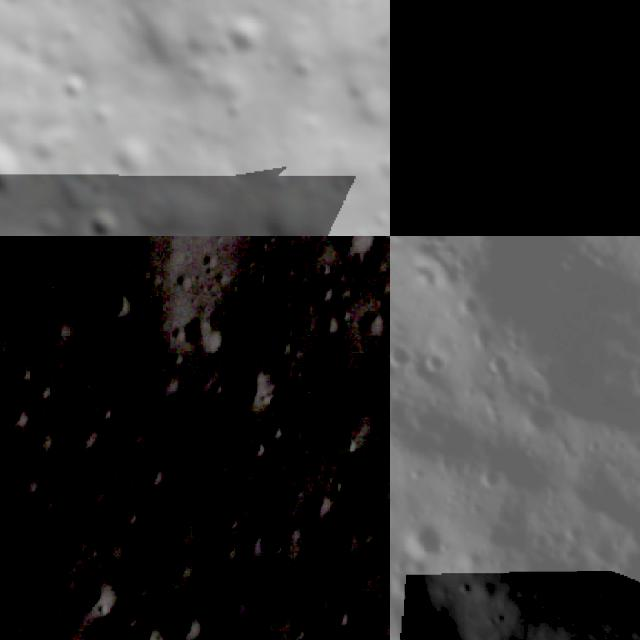crater: (390, 0, 640, 236), (393, 512, 462, 580), (100, 126, 170, 193), (215, 2, 281, 68), (216, 362, 279, 412), (67, 571, 128, 620), (0, 123, 33, 206), (411, 342, 462, 392), (71, 192, 127, 236), (130, 452, 177, 503), (248, 519, 295, 567), (91, 282, 130, 327), (513, 236, 593, 257), (390, 334, 423, 383), (51, 67, 90, 105), (286, 52, 324, 89), (24, 420, 59, 454), (321, 236, 372, 257), (0, 396, 31, 427), (390, 559, 407, 610), (163, 0, 212, 16)
